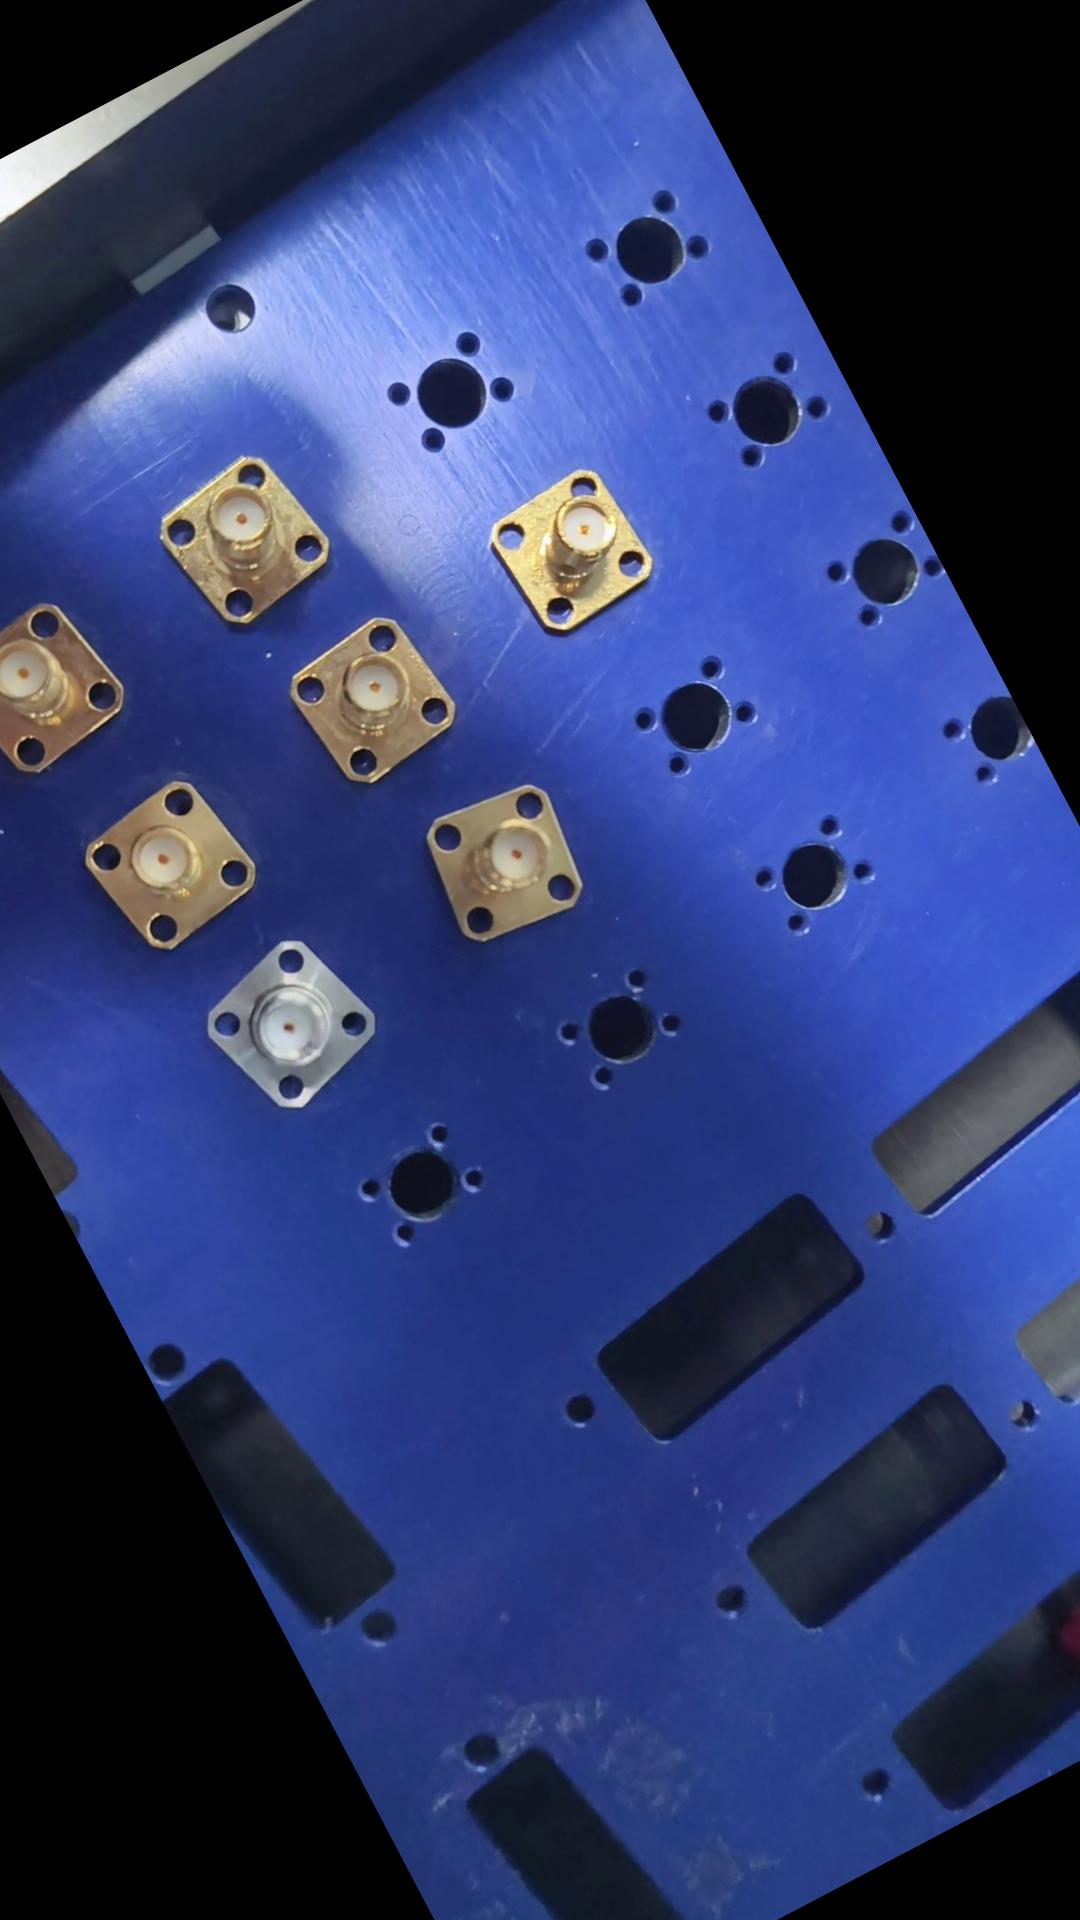SMA: (57, 756, 284, 973), (185, 909, 405, 1127), (407, 757, 618, 967), (273, 596, 477, 800), (152, 436, 355, 640), (476, 448, 673, 654)
